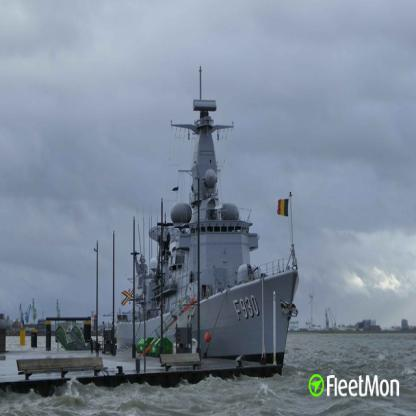Military Ship: (116, 64, 301, 377)
